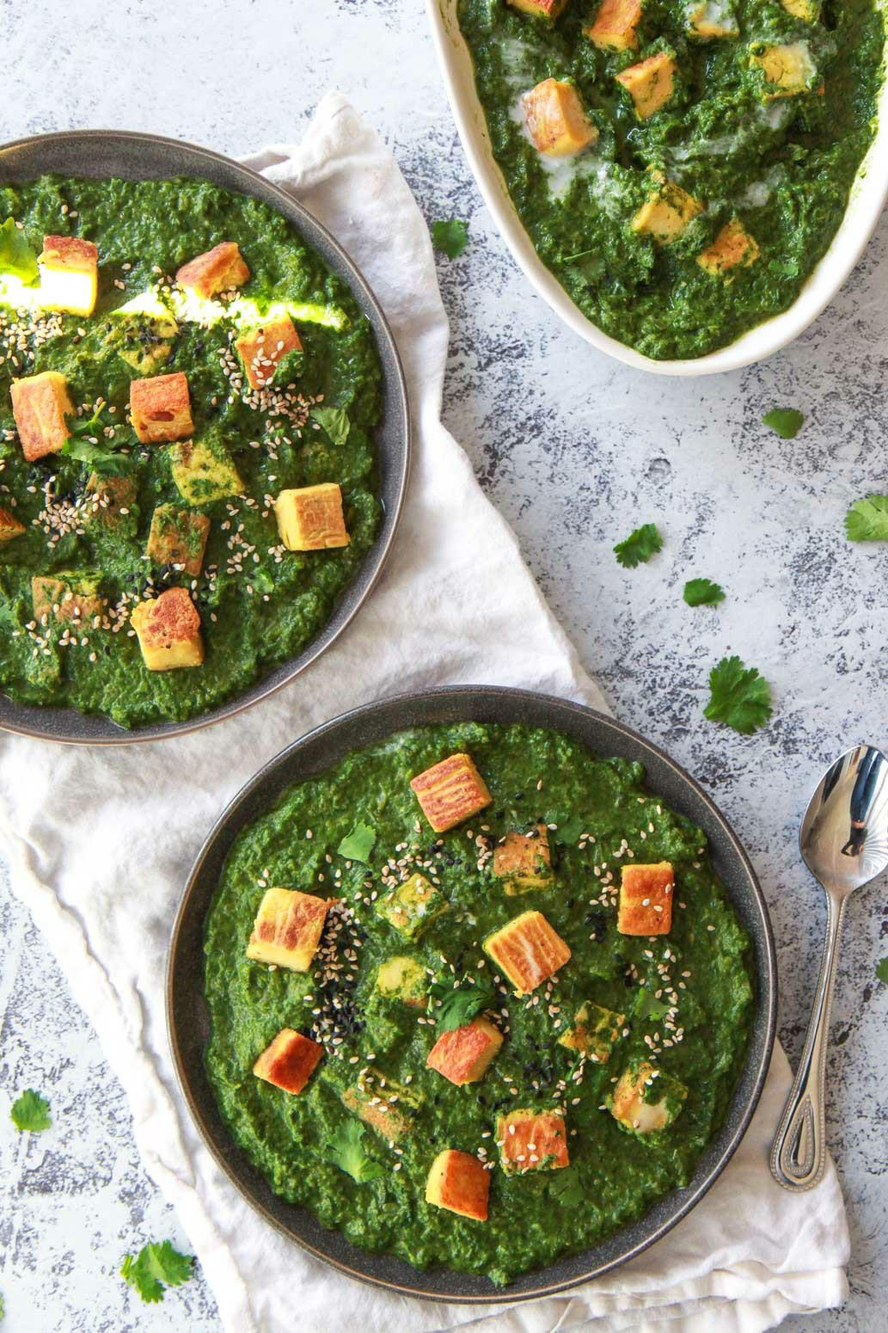PalakPaneer: (199, 721, 751, 1285), (0, 156, 389, 732), (442, 0, 888, 356)
